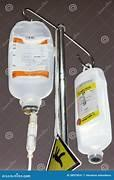Iv_Bottle: (8, 21, 53, 108), (75, 67, 111, 163)
